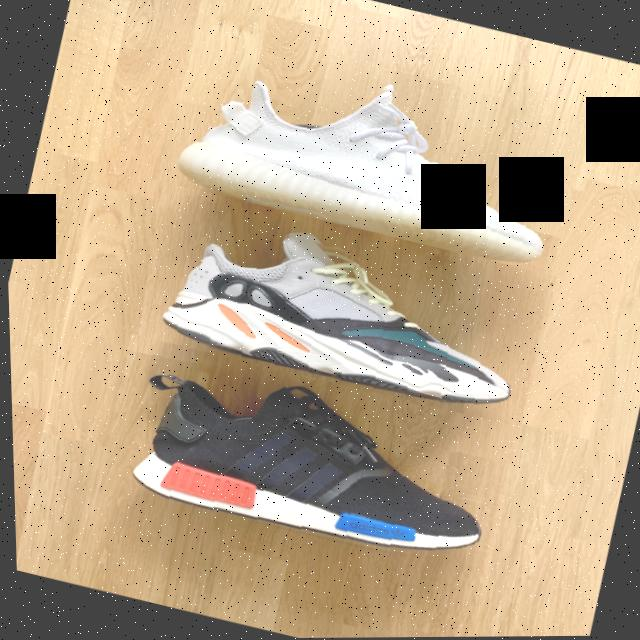shoe: (137, 29, 601, 281), (91, 334, 519, 589), (113, 194, 541, 428)
